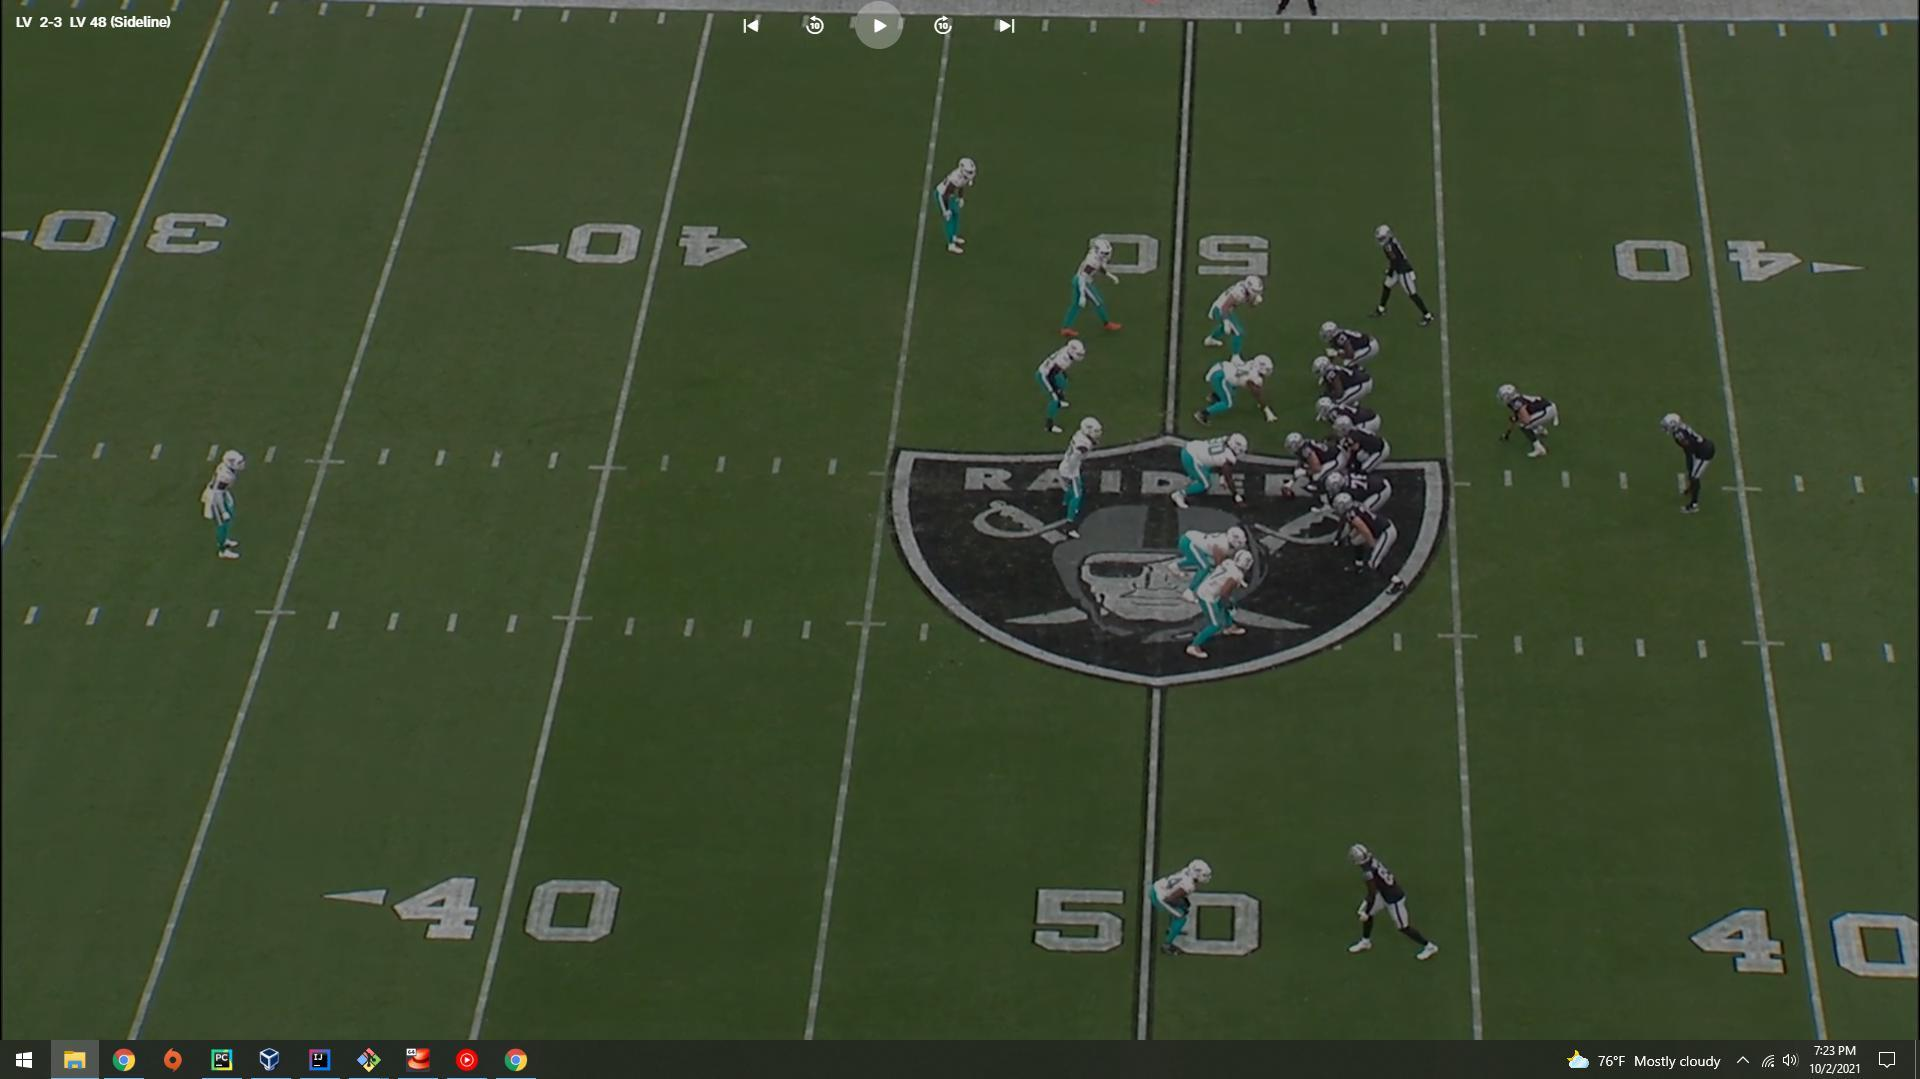player: (1341, 838, 1447, 967), (1331, 494, 1415, 601), (1190, 544, 1256, 661), (1058, 235, 1128, 342), (1161, 433, 1252, 515), (1141, 852, 1210, 957), (1369, 224, 1434, 329), (1054, 414, 1106, 542), (1165, 530, 1259, 598), (1197, 355, 1282, 430), (1660, 411, 1718, 520), (1038, 335, 1093, 442), (1207, 269, 1271, 359), (1498, 382, 1566, 463), (204, 445, 250, 564), (1282, 433, 1349, 513), (1315, 468, 1382, 543), (936, 154, 982, 258), (1316, 395, 1383, 463), (1312, 353, 1376, 414), (1320, 320, 1382, 382), (1344, 409, 1393, 483)
